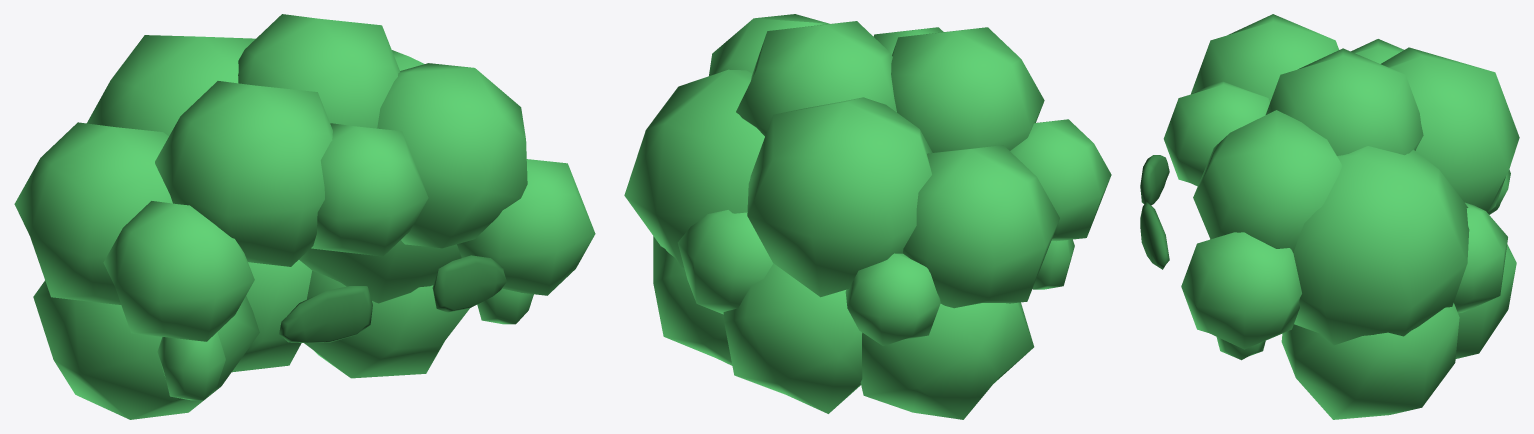
The model's file is sac03.fbx.
3 renders of one model, left to right at view 1: azimuth 30°, elevation 25°; view 2: azimuth 150°, elevation 25°; view 3: azimuth 270°, elevation 25°, orthographic. The views are drawn at different scales.
Parts seen in each view (by area): view 1: sac03; view 2: sac03; view 3: sac03.
Part boxes in pixels (x1,y1,x2,y2): sac03: (14, 14, 595, 419); sac03: (624, 14, 1111, 419); sac03: (1140, 14, 1519, 419).
Bounding box in the file's own units: 5.09 × 3.84 × 4.11.
